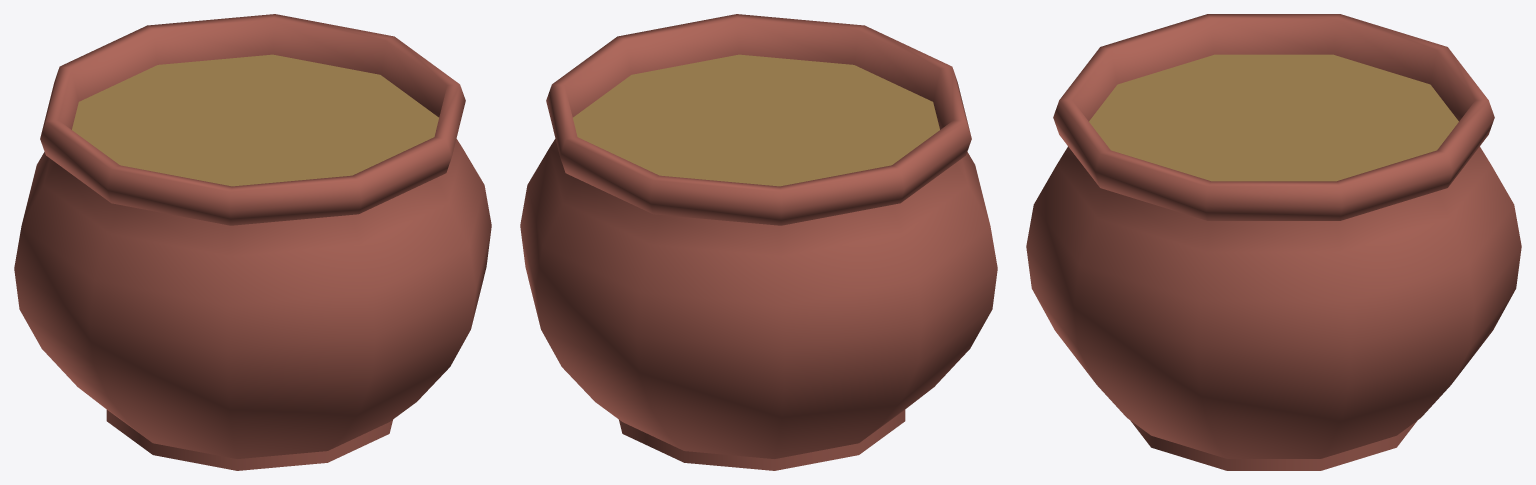
Rendered from Garden_Vase_01.fbx.
The picture shows the model from 3 angles, left to right: view 1: azimuth 30°, elevation 25°; view 2: azimuth 150°, elevation 25°; view 3: azimuth 270°, elevation 25°; orthographic projection.
Parts seen in each view (by area): view 1: Garden_Vase_01; view 2: Garden_Vase_01; view 3: Garden_Vase_01.
Part boxes in pixels (left/top/right/bottom): Garden_Vase_01: left=14, top=14, right=491, bottom=470; Garden_Vase_01: left=520, top=14, right=997, bottom=470; Garden_Vase_01: left=1026, top=14, right=1521, bottom=470.
Bounding box in the file's own units: 23.3 × 16.89 × 24.5.
